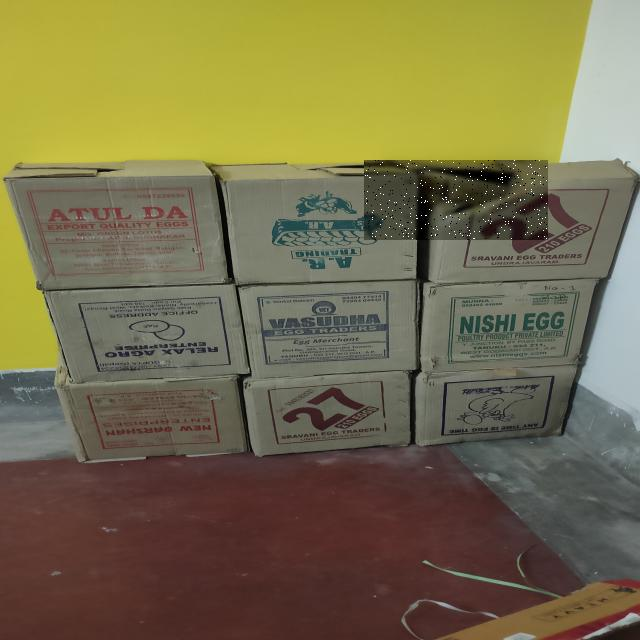squeeze: (364, 160, 547, 239)
